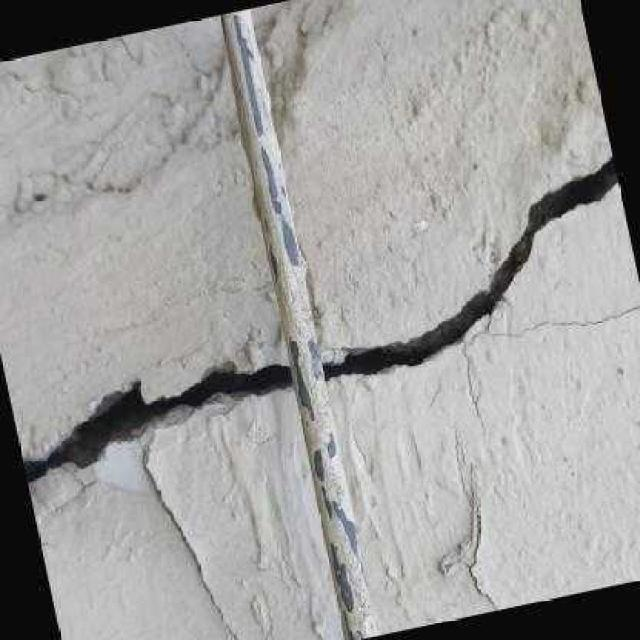D00: (321, 142, 621, 391), (21, 355, 294, 491), (140, 441, 244, 640), (499, 298, 640, 342)
